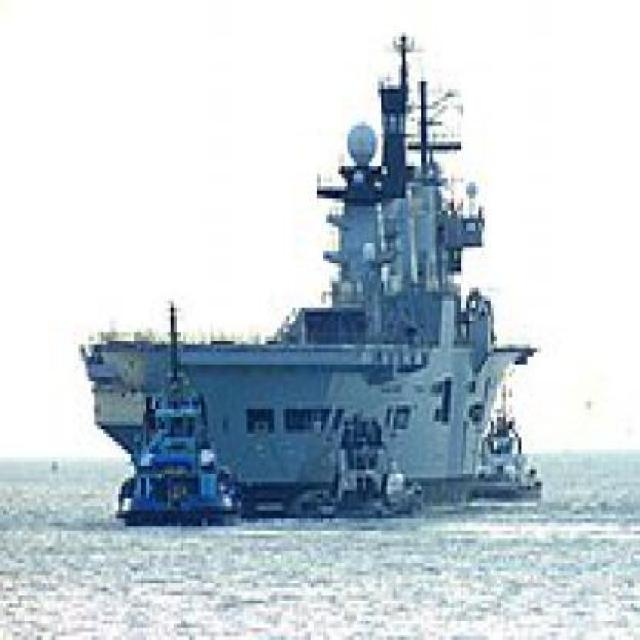warship2: (83, 9, 537, 536)
